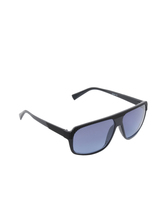glasses: (15, 83, 153, 154)
